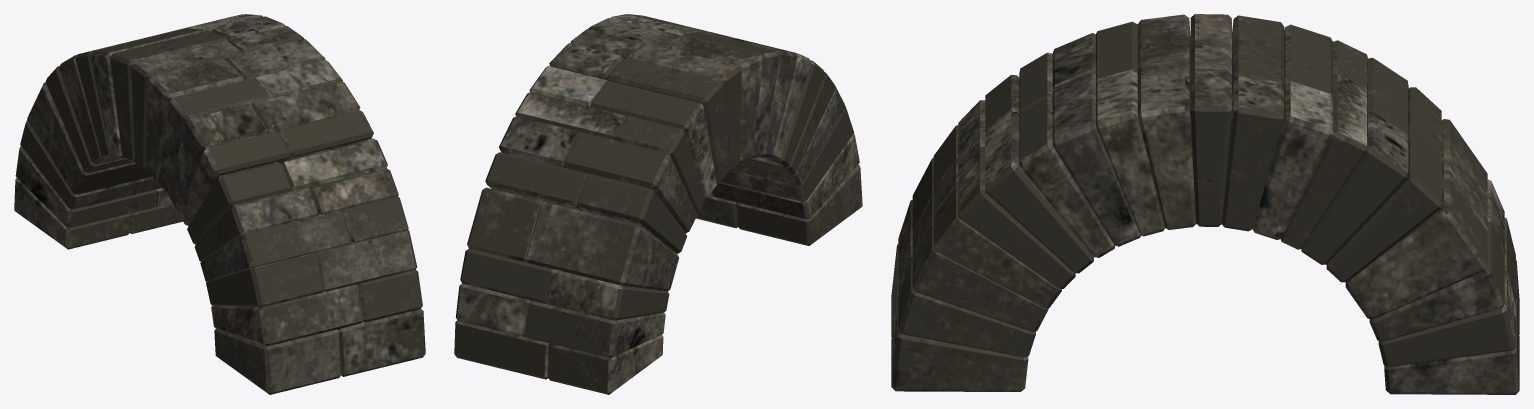
The picture shows the model from 3 angles, left to right: view 1: azimuth 30°, elevation 25°; view 2: azimuth 150°, elevation 25°; view 3: azimuth 270°, elevation 25°; orthographic projection. The views are drawn at different scales.
Visible parts, largest first — view 1: Wall; view 2: Wall; view 3: Wall.
Boxes of the visible parts, box(x1,y1,x2,y2) form: Wall: box(14, 14, 425, 394); Wall: box(454, 14, 862, 394); Wall: box(891, 14, 1519, 394).
Bounding box in the file's own units: 112 × 159 × 313.
